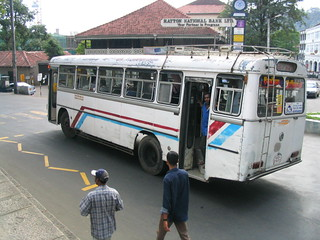bus: (47, 52, 305, 183)
